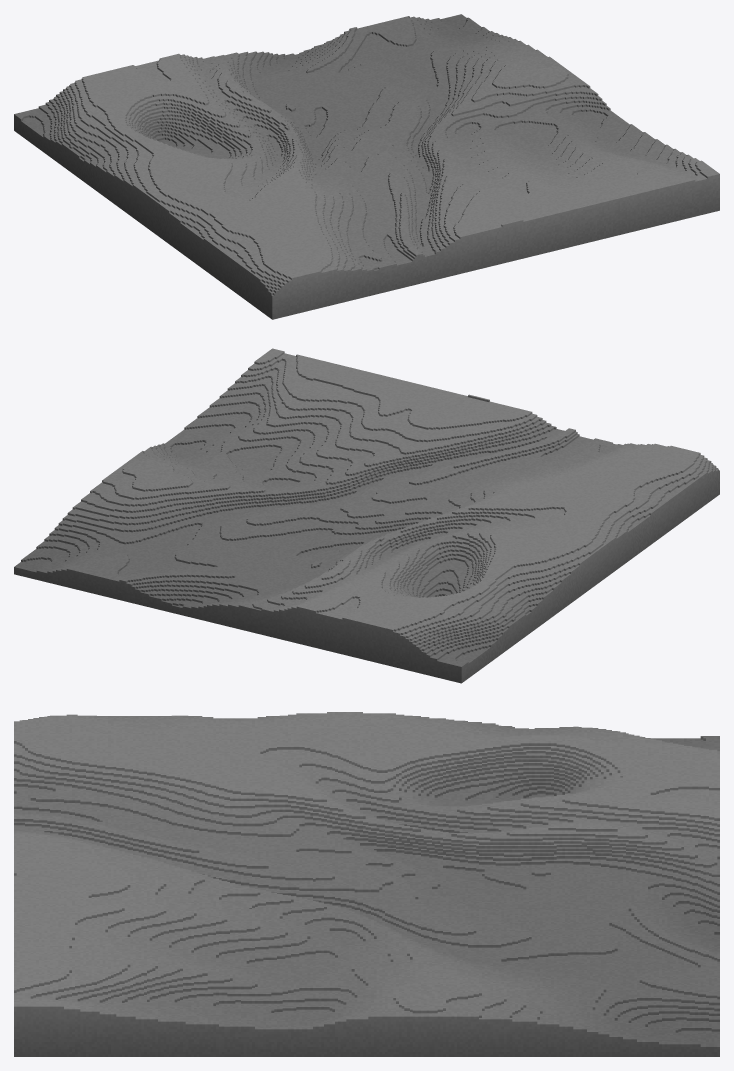
Rendered from LunaGrande-5.obj.
3 renders of one model, top to bottom at view 1: azimuth 30°, elevation 25°; view 2: azimuth 150°, elevation 25°; view 3: azimuth 270°, elevation 25°, orthographic. The views are drawn at different scales.
Size of the model in its own units: 25.5 by 2.1 by 25.5.
Materials: 1 (1 with a texture image).
